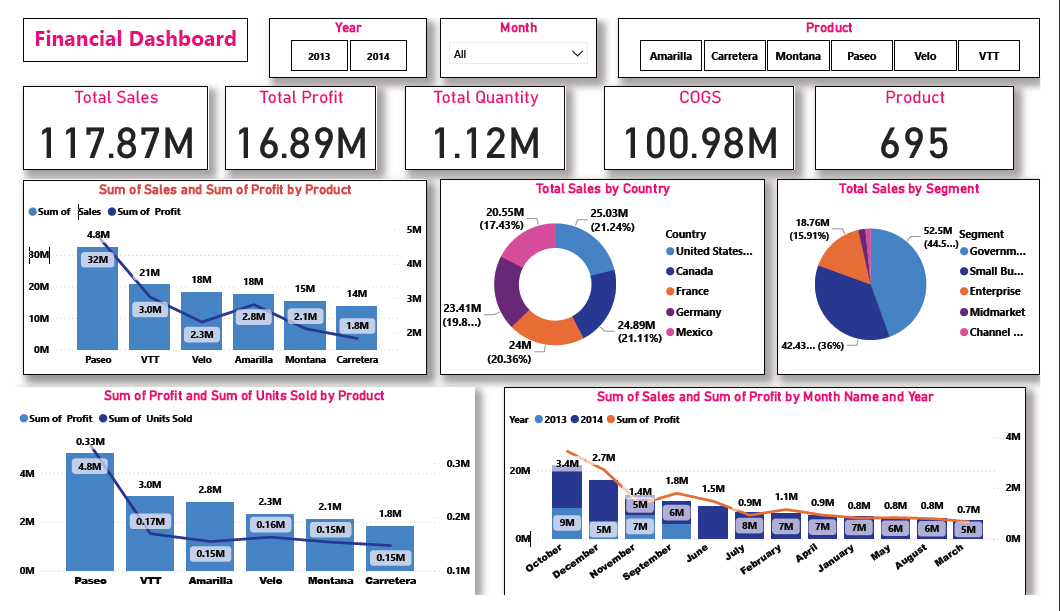

This screenshot's page, from the dashboard's own definition file:
{"tool":"powerbi","page":{"name":"Page 1","canvas":[1280,720],"ordinal":0},"visuals":[{"type":"textbox","box":[10.1,0,280.5,55.4],"z":0},{"type":"slicer","title":"Year","fields":{"Values":["financial performance dasboard.Year"]},"box":[317.5,0,196.5,73.9],"z":1000},{"type":"slicer","title":"Month","fields":{"Values":["financial performance dasboard. Month Name "]},"box":[530.8,0,194.9,73.9],"z":2000},{"type":"slicer","title":"Product","fields":{"Values":["financial performance dasboard. Product "]},"box":[752.5,0,527.5,73.9],"z":3000},{"type":"card","title":"Total Sales","fields":{"Values":["Sum(financial performance dasboard.  Sales )"]},"box":[9.6,85.3,231.2,103.2],"z":4000},{"type":"card","title":"Total Profit","fields":{"Values":["Sum(financial performance dasboard. Profit )"]},"box":[261.5,85.3,189.9,103.2],"z":5000},{"type":"card","title":"Total Quantity","fields":{"Values":["Sum(financial performance dasboard. Units Sold )"]},"box":[487.2,85.3,199.6,103.2],"z":6000},{"type":"card","title":"COGS","fields":{"Values":["Sum(financial performance dasboard. COGS )"]},"box":[736.3,85.3,236.7,103.2],"z":7000},{"type":"card","title":"Product","fields":{"Values":["CountNonNull(financial performance dasboard. Product )"]},"box":[999.2,85.3,247.7,103.2],"z":8000},{"type":"lineStackedColumnComboChart","fields":{"Y":["Sum(financial performance dasboard.  Sales )"],"Category":["financial performance dasboard. Product "],"Y2":["Sum(financial performance dasboard. Profit )"]},"box":[10.1,201.6,503.9,243.6],"z":9000},{"type":"pieChart","title":"Total Sales  by Segment","fields":{"Y":["Sum(financial performance dasboard.  Sales )"],"Category":["financial performance dasboard.Segment"]},"box":[952.4,200.9,327.6,243.6],"z":10000},{"type":"donutChart","title":"Total  Sales  by Country","fields":{"Category":["financial performance dasboard.Country"],"Y":["Sum(financial performance dasboard.  Sales )"]},"box":[531.3,200.9,404.6,243.6],"z":11000},{"type":"lineClusteredColumnComboChart","fields":{"Category":["financial performance dasboard. Product "],"Y":["Sum(financial performance dasboard. Profit )"],"Y2":["Sum(financial performance dasboard. Units Sold )"]},"box":[0,461.1,572.6,260.1],"z":12000},{"type":"lineStackedColumnComboChart","fields":{"Category":["financial performance dasboard. Month Name "],"Y":["Sum(financial performance dasboard.  Sales )"],"Y2":["Sum(financial performance dasboard. Profit )"],"Series":["financial performance dasboard.Year"]},"box":[611.1,461.1,651,260.1],"z":13000}]}

Visuals, with their boxes in screenshot pixels (x1, y1, x2, y2), scaled from the page's 1280x720 canvas onto the 1060x611 screenshot:
textbox: 8 0 241 47
"Year" slicer: 263 0 426 63
"Month" slicer: 440 0 601 63
"Product" slicer: 623 0 1059 63
"Total Sales" card: 8 72 199 160
"Total Profit" card: 217 72 374 160
"Total Quantity" card: 403 72 569 160
"COGS" card: 610 72 806 160
"Product" card: 827 72 1033 160
lineStackedColumnComboChart - Sum(financial performance dasboard.  Sales ) x financial performance dasboard. Product : 8 171 426 378
"Total Sales  by Segment" pieChart: 789 170 1059 377
"Total  Sales  by Country" donutChart: 440 170 775 377
lineClusteredColumnComboChart - financial performance dasboard. Product  x Sum(financial performance dasboard. Profit ): 0 391 474 610
lineStackedColumnComboChart - financial performance dasboard. Month Name  x Sum(financial performance dasboard.  Sales ): 506 391 1045 610
